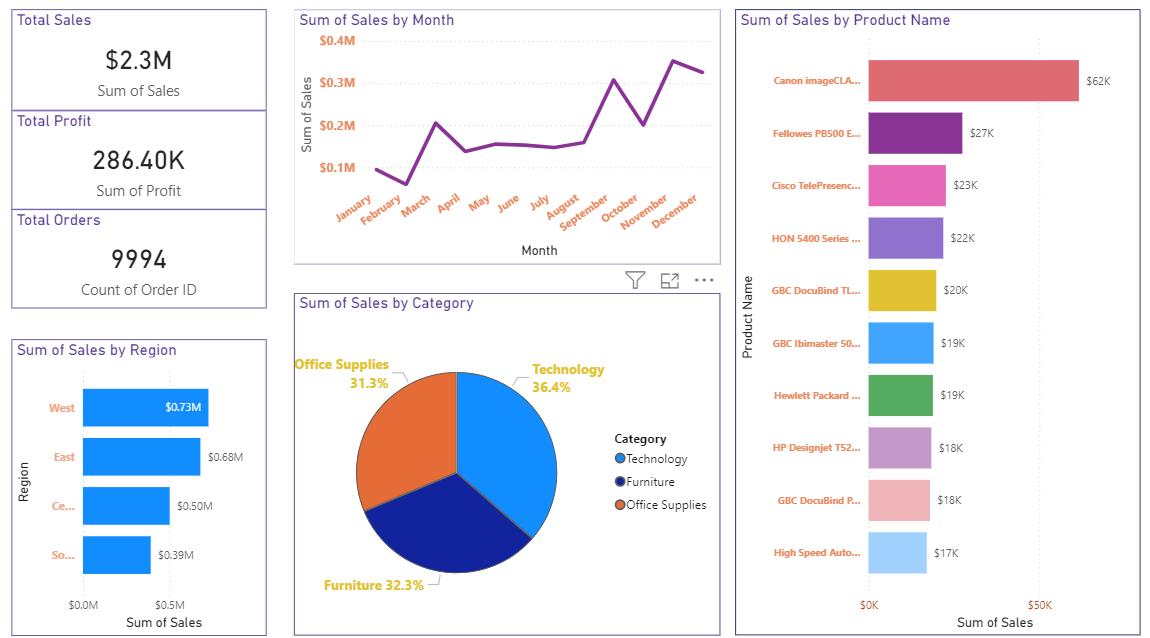

Layout of this report page (visuals, bound fields, positions):
{"tool":"powerbi","page":{"name":"Page 1","canvas":[1280,720],"ordinal":0},"visuals":[{"type":"card","title":"Total Sales","fields":{"Values":["Sum(Orders.Sales)"]},"box":[19.2,39.8,279.9,111.1],"z":0},{"type":"card","title":"Total Profit","fields":{"Values":["Sum(Orders.Profit)"]},"box":[19.2,150.9,279.9,108.4],"z":1000},{"type":"card","title":"Total Orders","fields":{"Values":["CountNonNull(Orders.Order ID)"]},"box":[19.2,259.3,279.9,108.4],"z":2000},{"type":"clusteredBarChart","fields":{"Category":["Orders.Region"],"Y":["Sum(Orders.Sales)"]},"box":[19.2,385.6,279.9,325.2],"z":3000},{"type":"lineChart","fields":{"Y":["Sum(Orders.Sales)"],"Category":["Orders.Order Date.Variation.Date Hierarchy.Month"]},"box":[329.3,23.3,467.9,279.9],"z":4000},{"type":"pieChart","fields":{"Y":["Sum(Orders.Sales)"],"Category":["Orders.Category"]},"box":[329.3,334.8,467.9,376],"z":5000},{"type":"clusteredBarChart","fields":{"Y":["Sum(Orders.Sales)"],"Category":["Orders.Product Name"]},"box":[813.7,23.3,444.6,687.5],"z":6000}]}

Visuals, with their boxes in screenshot pixels (x1, y1, x2, y2), scaled from the page's 1280x720 canvas onto the 1150x638 screenshot:
"Total Sales" card: 17:35:269:134
"Total Profit" card: 17:134:269:230
"Total Orders" card: 17:230:269:326
clusteredBarChart - Orders.Region x Sum(Orders.Sales): 17:342:269:630
lineChart - Sum(Orders.Sales) x Orders.Order Date.Variation.Date Hierarchy.Month: 296:21:716:269
pieChart - Sum(Orders.Sales) x Orders.Category: 296:297:716:630
clusteredBarChart - Sum(Orders.Sales) x Orders.Product Name: 731:21:1131:630
